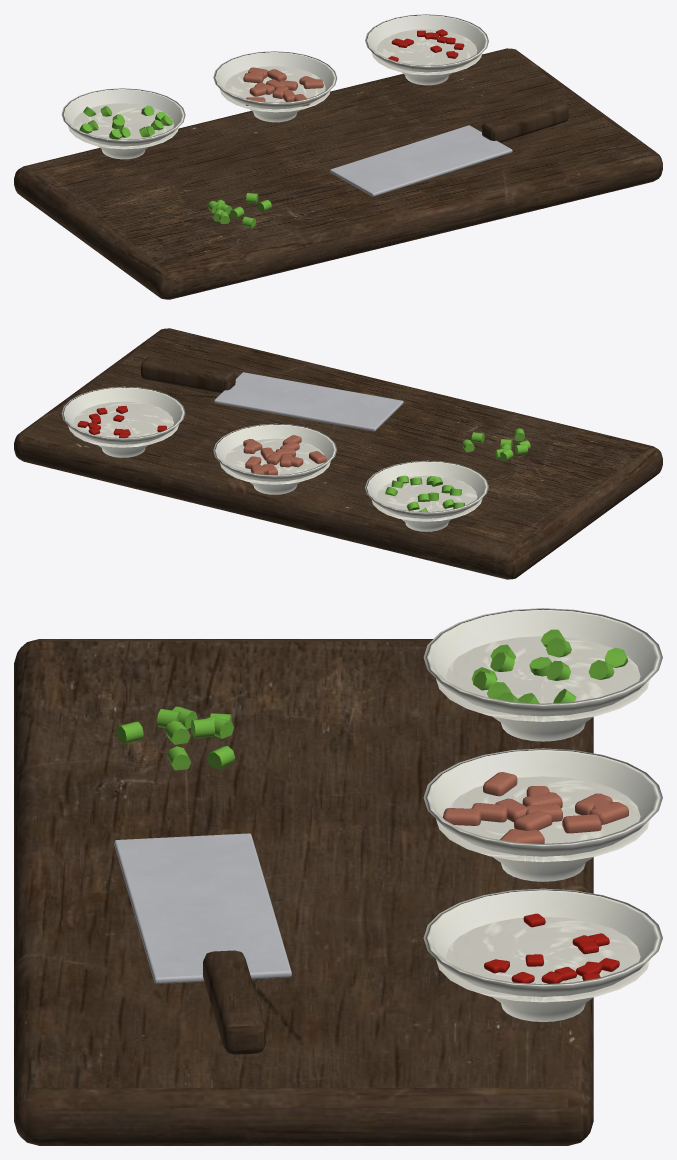
File: PROP_Common_PrepBoard_A.glb
The picture shows the model from 3 angles, top to bottom: view 1: azimuth 30°, elevation 25°; view 2: azimuth 150°, elevation 25°; view 3: azimuth 270°, elevation 25°; orthographic projection. The views are drawn at different scales.
Parts seen in each view (by area): view 1: PROP_Common_PrepBoard_A; view 2: PROP_Common_PrepBoard_A; view 3: PROP_Common_PrepBoard_A.
Boxes of the visible parts, <box> form: PROP_Common_PrepBoard_A: <box>14,14,662,299</box>; PROP_Common_PrepBoard_A: <box>14,328,662,579</box>; PROP_Common_PrepBoard_A: <box>14,608,662,1145</box>.
Bounding box in the file's own units: 0.9 × 0.11 × 0.528.
8 materials, 8 textured.
